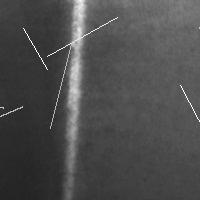scratches: (62, 1, 87, 197), (42, 12, 122, 61), (45, 38, 76, 133), (175, 80, 200, 173), (18, 23, 52, 74), (0, 102, 27, 127), (194, 22, 200, 88), (0, 95, 8, 113)
